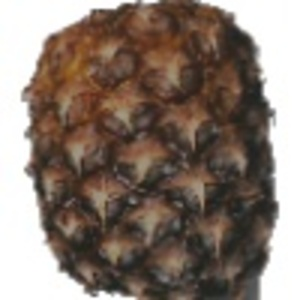abacaxi: (15, 2, 281, 296)
